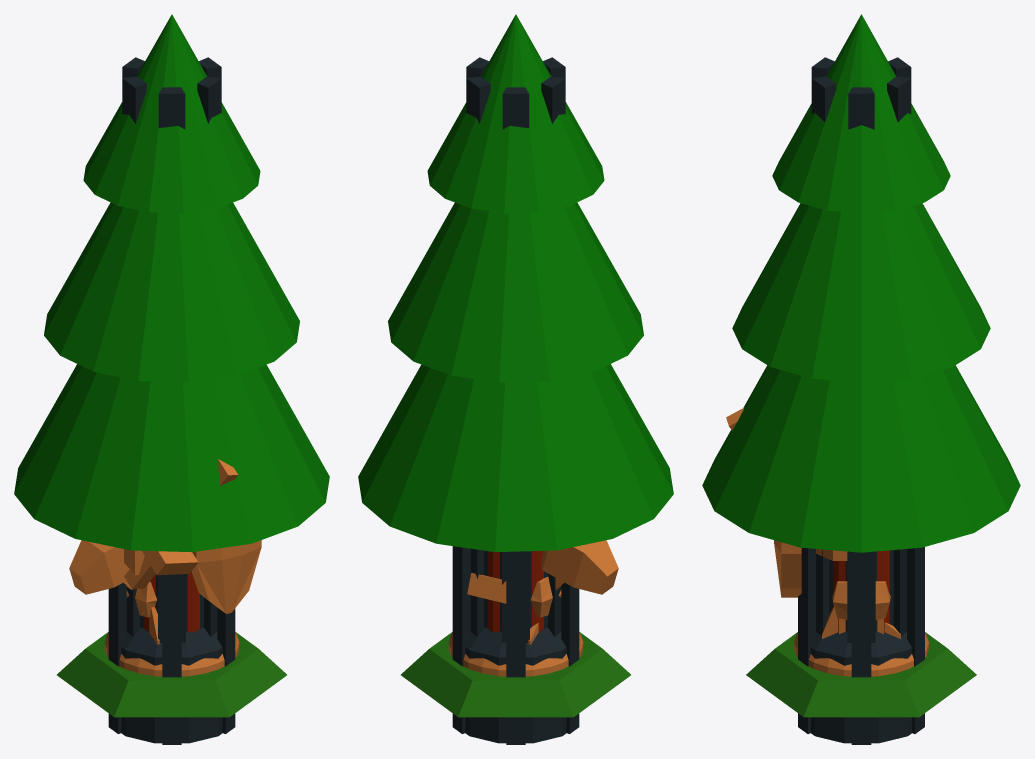
The model's file is Assets.obj.
The picture shows the model from 3 angles, left to right: view 1: azimuth 30°, elevation 25°; view 2: azimuth 150°, elevation 25°; view 3: azimuth 270°, elevation 25°; orthographic projection.
Visible parts, largest first — view 1: Tree, Tower, Hex, Infantry, Cavalry; view 2: Tree, Tower, Hex, Cavalry, Artillery; view 3: Tree, Tower, Hex, Cavalry, Infantry.
Part boxes in pixels (left/top/right/bottom): Tree: left=14, top=14, right=329, bottom=632; Tower: left=108, top=57, right=235, bottom=744; Hex: left=57, top=632, right=286, bottom=717; Infantry: left=124, top=459, right=261, bottom=613; Cavalry: left=69, top=540, right=239, bottom=676; Tree: left=358, top=14, right=673, bottom=632; Tower: left=452, top=57, right=579, bottom=744; Hex: left=401, top=632, right=630, bottom=717; Cavalry: left=448, top=540, right=618, bottom=676; Artillery: left=467, top=573, right=538, bottom=644; Tree: left=702, top=14, right=1020, bottom=632; Tower: left=798, top=57, right=924, bottom=744; Hex: left=746, top=632, right=976, bottom=717; Cavalry: left=794, top=581, right=928, bottom=676; Infantry: left=726, top=407, right=847, bottom=597.
Size of what is drawn, in the model's own units: 2.75 by 6.71 by 2.75.
